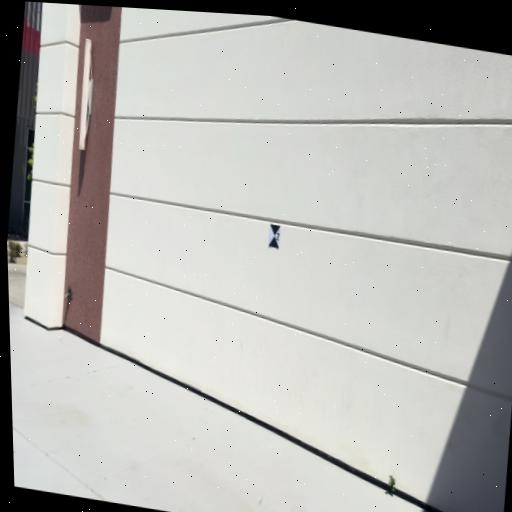target7: (268, 224, 282, 248)
